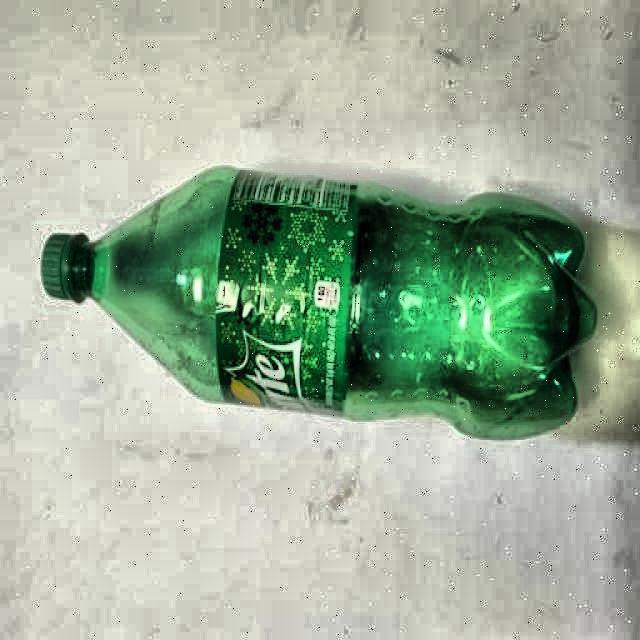plastic: (39, 166, 599, 443)
